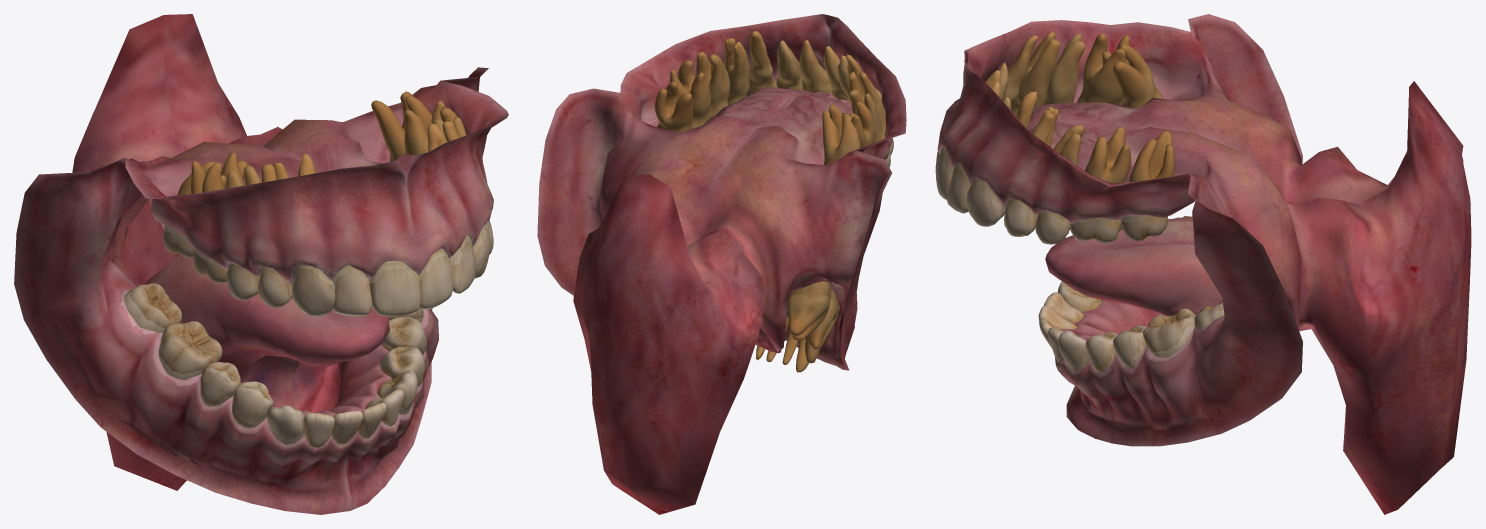
The model's file is Tooth-2.gltf.
The picture shows the model from 3 angles, left to right: view 1: azimuth 30°, elevation 25°; view 2: azimuth 150°, elevation 25°; view 3: azimuth 270°, elevation 25°; orthographic projection. The views are drawn at different scales.
Parts seen in each view (by area): view 1: mouth_0, teeth_1, wet_2; view 2: mouth_0, teeth_1; view 3: mouth_0, teeth_1, wet_2.
Boxes of the visible parts, bbox=[...] form: mouth_0: bbox=[14, 14, 508, 514]; teeth_1: bbox=[124, 91, 493, 447]; wet_2: bbox=[121, 217, 489, 448]; mouth_0: bbox=[537, 14, 906, 514]; teeth_1: bbox=[654, 31, 893, 372]; mouth_0: bbox=[937, 14, 1471, 514]; teeth_1: bbox=[935, 32, 1224, 372]; wet_2: bbox=[938, 91, 1223, 377].
Bounding box in the file's own units: 0.2433 × 0.2663 × 0.2801.
3 materials, 2 textured.
